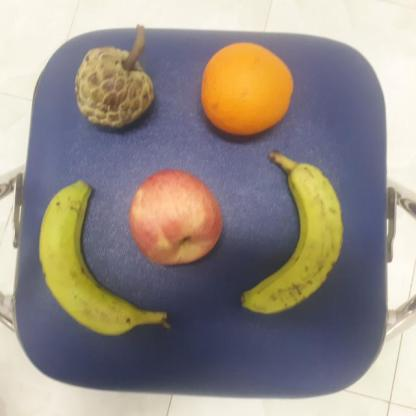annona: (72, 40, 159, 139)
apple: (126, 167, 226, 266)
banana: (38, 176, 174, 341), (240, 151, 343, 318)
orange: (198, 40, 297, 139)
